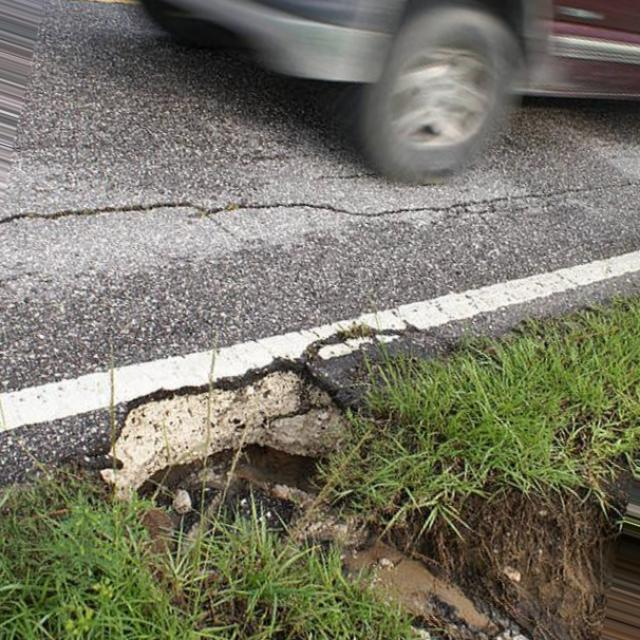Pinggir: (73, 356, 488, 625)
